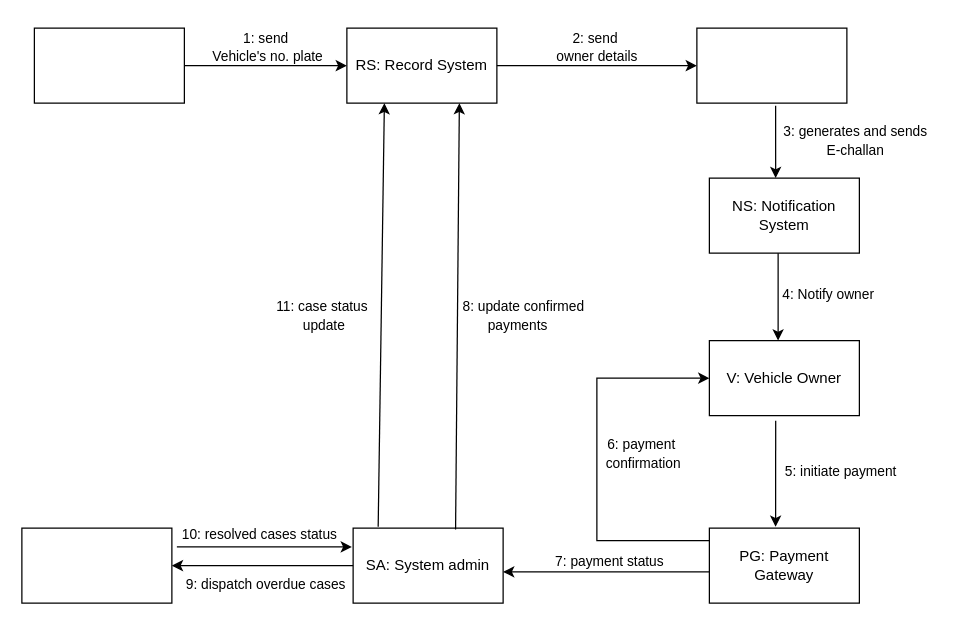
The diagram is 963 pixels wide and 625 high, and some of its shapes have lost their labels. The shapes that lost their labels are listed below. From the top down, each one's centre as x and y in pixels, then its label:
At pixel 108 65: "A: ANPR System".
At pixel 771 65: "ES: E-challan system".
At pixel 96 565: "CS: Court System".
